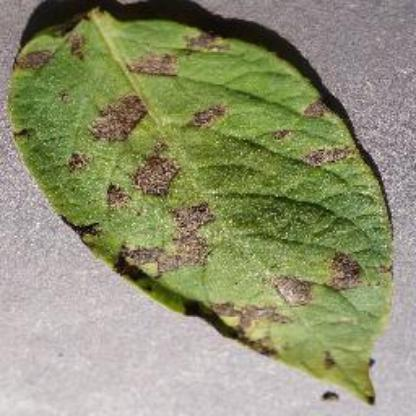Early-Blight: (8, 9, 384, 404)
